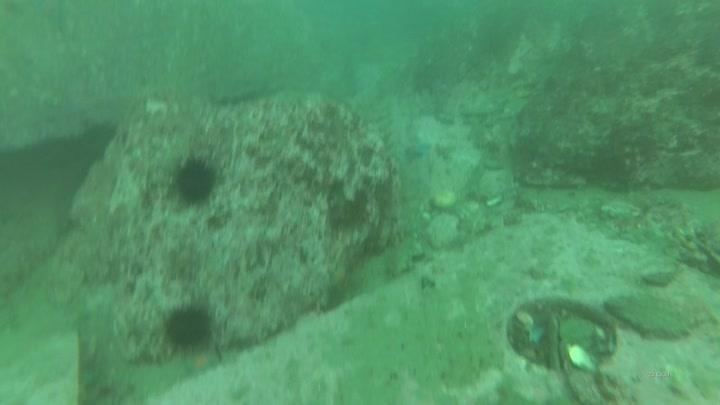echinus: (161, 300, 216, 352), (170, 153, 221, 208)
starfish: (179, 344, 224, 381)
